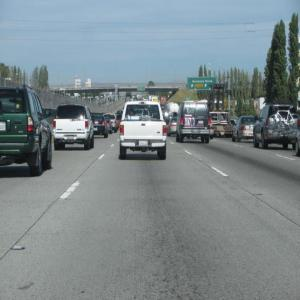Vehicle-registration-plate: (139, 141, 149, 148), (1, 122, 7, 132), (69, 135, 74, 143), (93, 127, 99, 131), (250, 127, 255, 131)
